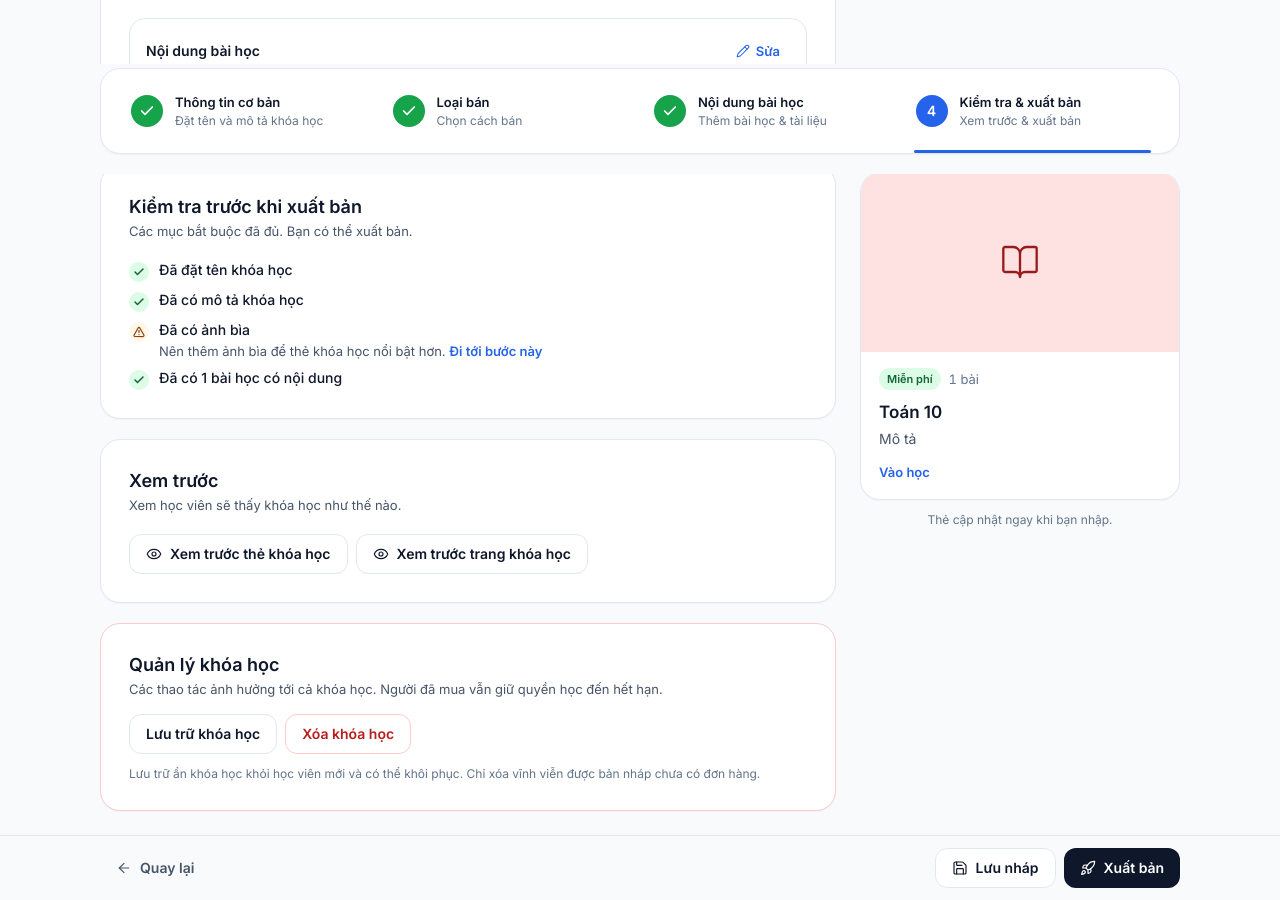
Test: StudioCourseWizard - quản lý khóa học (moved from the list) › R18-07: a delete refused with a 409 explains itself inside the danger zone and keeps the page
(page scrolled)
Click the button "Xóa khóa học". click: click(348, 734)
box: x1=285 y1=714 x2=411 y2=754
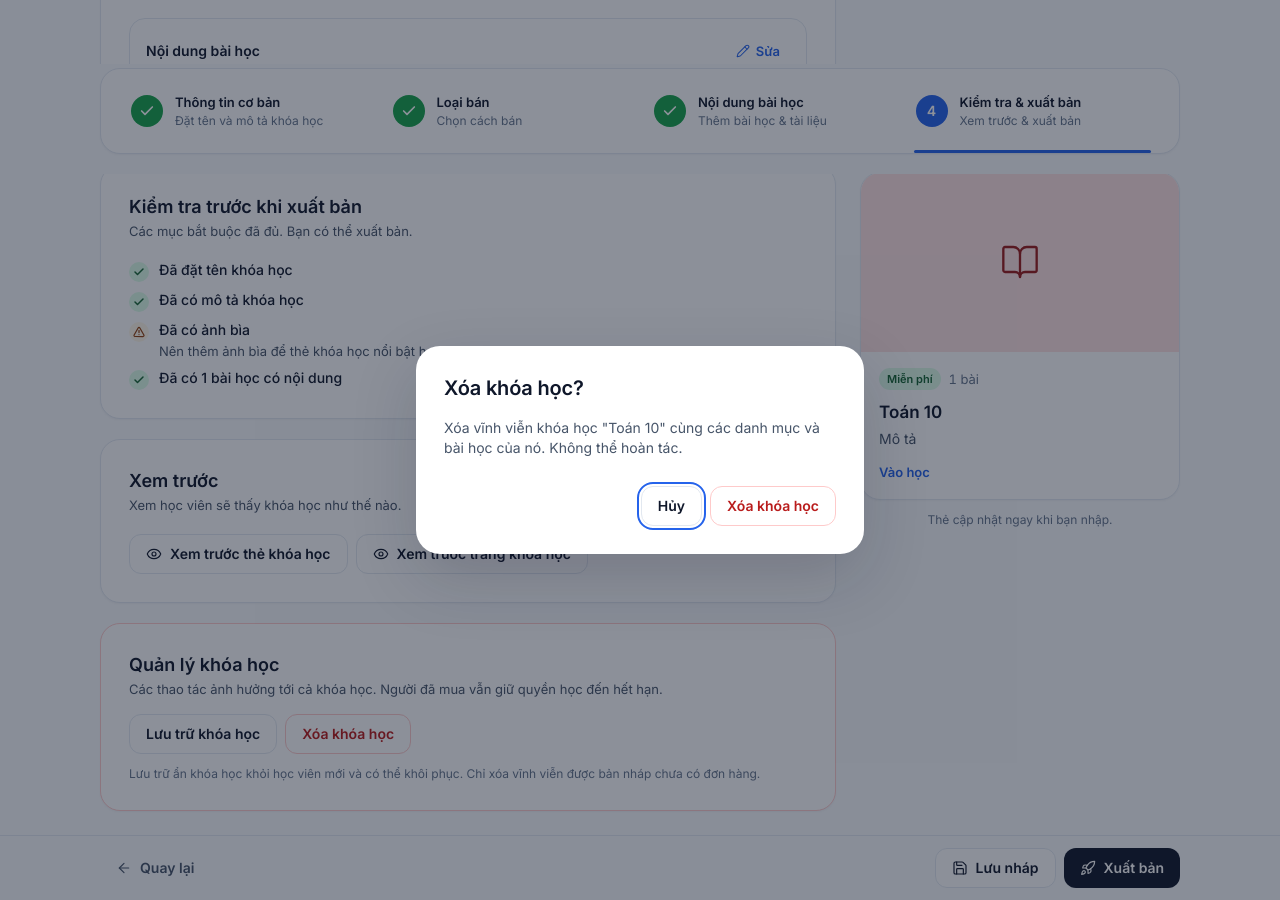
Click the button "Xóa khóa học". click: click(773, 506)
box: x1=710 y1=486 x2=836 y2=526
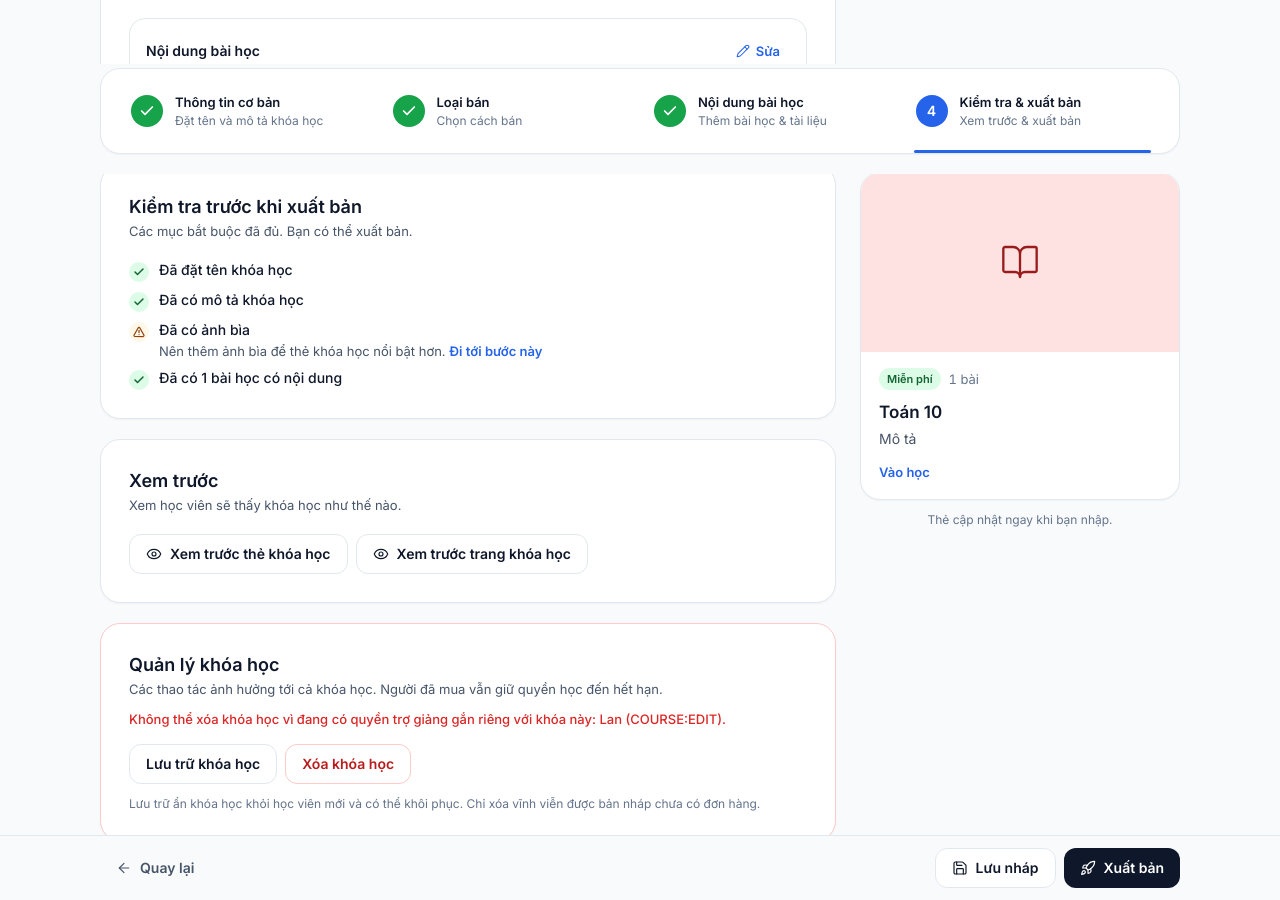
Check: the text "Không thể xóa khóa học vì đang có quyền trợ giảng gắn riêng với khóa này: Lan (COURSE:EDIT)." is shown, box x1=129 y1=711 x2=726 y2=727
